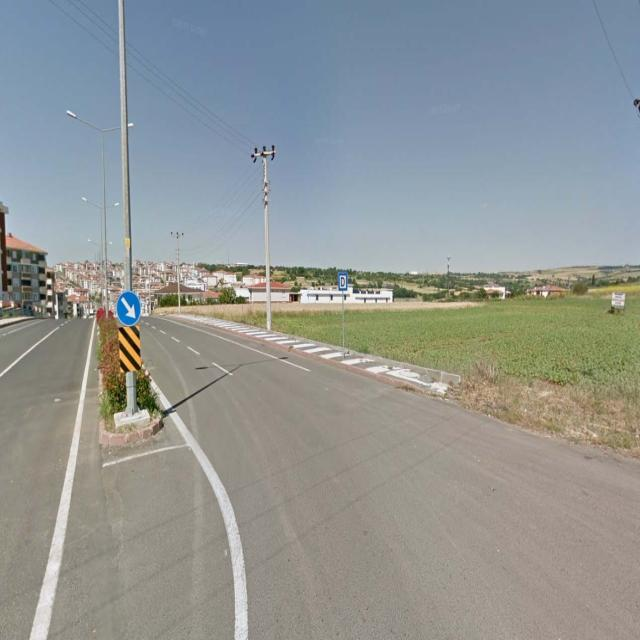durak: (339, 273, 347, 290)
